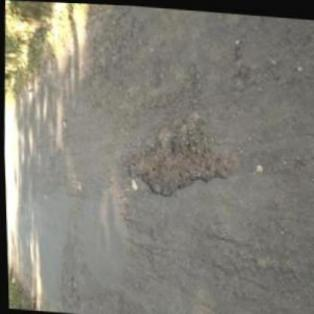Hueco: (116, 104, 236, 202)
